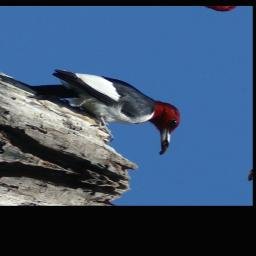Woodpecker: (0, 47, 194, 156)
